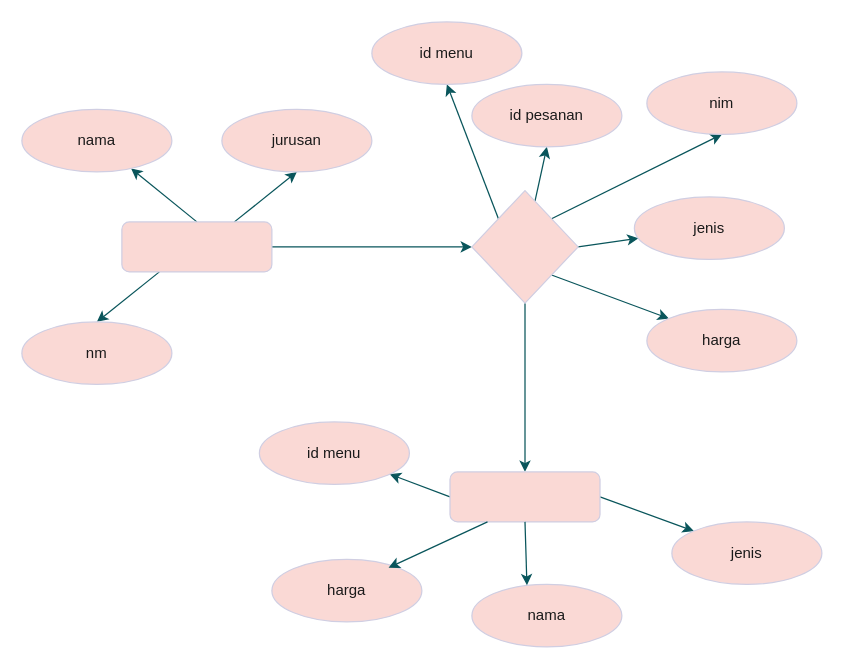
The diagram is 844 pixels wide and 669 high, and some of its shapes have lost their labels. The centre of each missing label's shape, as x and y in pixels:
"MAHASISWA" belongs at point 196,246.
"MEMILIH" belongs at point 524,246.
"MENU" belongs at point 524,496.
